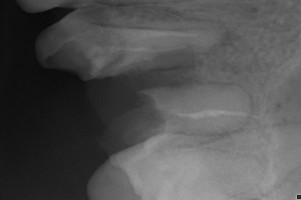Furcation Involvement: (221, 27, 243, 45)
